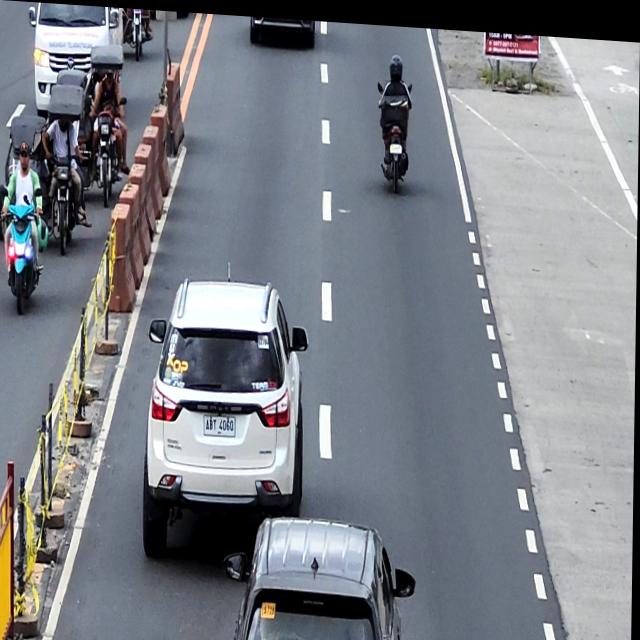Car: (142, 272, 311, 568), (225, 508, 419, 640), (28, 2, 124, 121)
License-Plate: (205, 410, 237, 434), (389, 138, 403, 148)
Motorcycle: (0, 183, 44, 316), (376, 73, 413, 191)
Tricycle: (0, 80, 86, 250), (55, 38, 130, 208), (120, 6, 149, 61)
